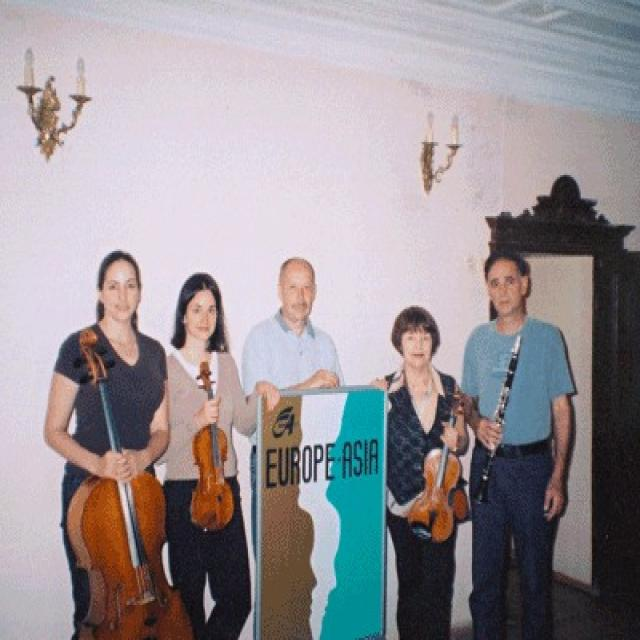cello: (58, 328, 201, 638)
clarinet: (472, 332, 531, 508)
violin: (405, 381, 470, 549), (186, 358, 237, 536)
